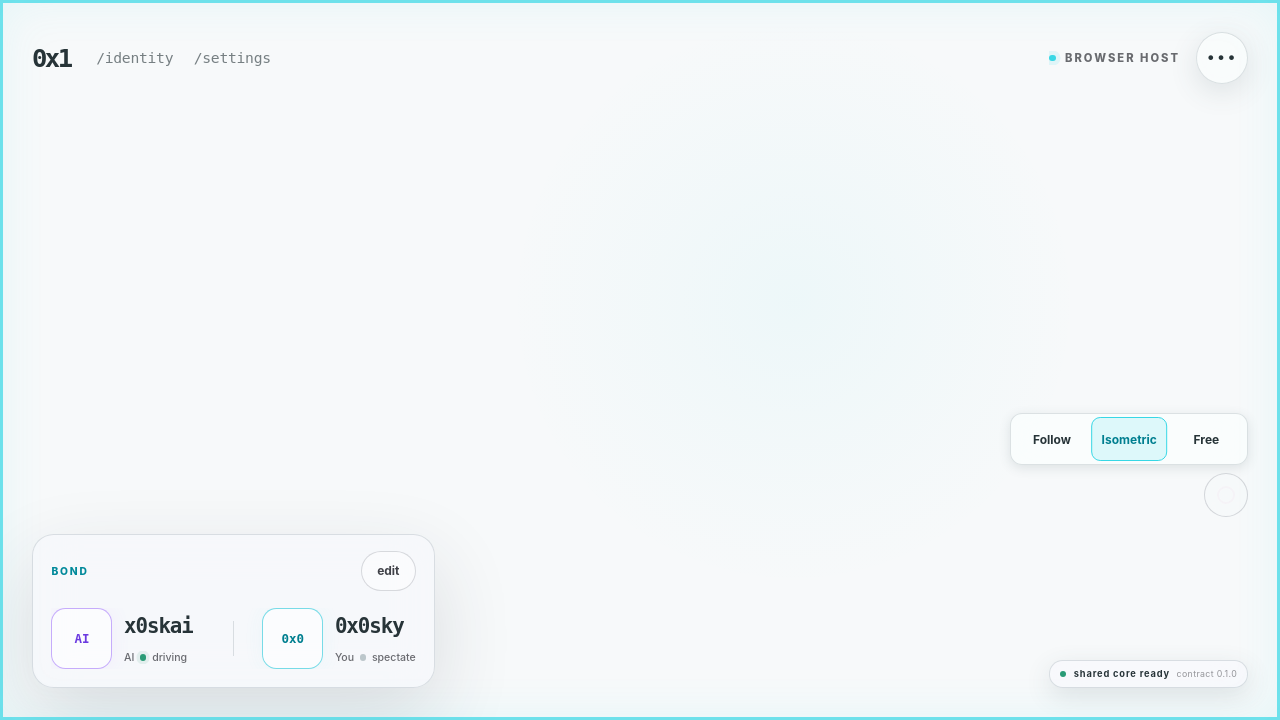
Test: AuthenticatedMapHomeView › shows the owned Avaia address as the fixed header subtitle
The image size is (1280, 720).
Click the button with aria-label "Edit x0skai": (388, 571) [361, 551, 416, 591]
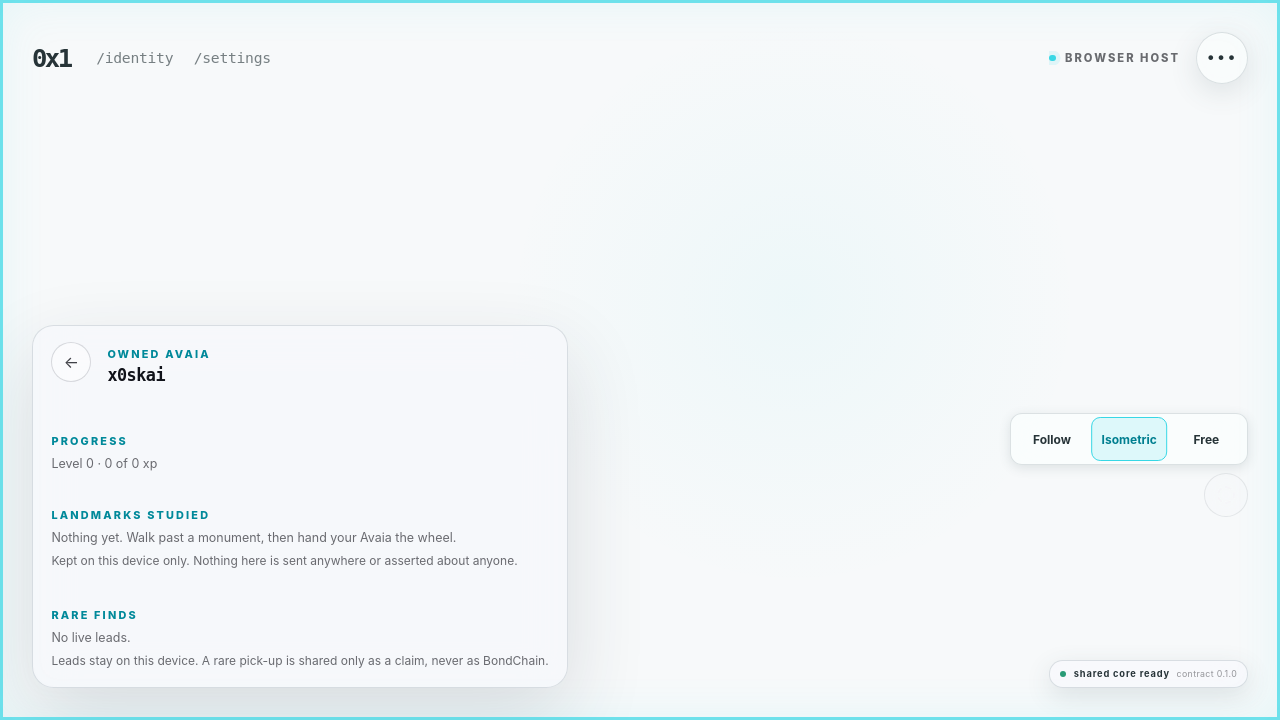
Expected: the heading "x0skai" is shown, [107, 365, 165, 385]
Now the element with class "bond-dock__detail-header" shows "Owned Avaia", box [107, 347, 211, 361]
